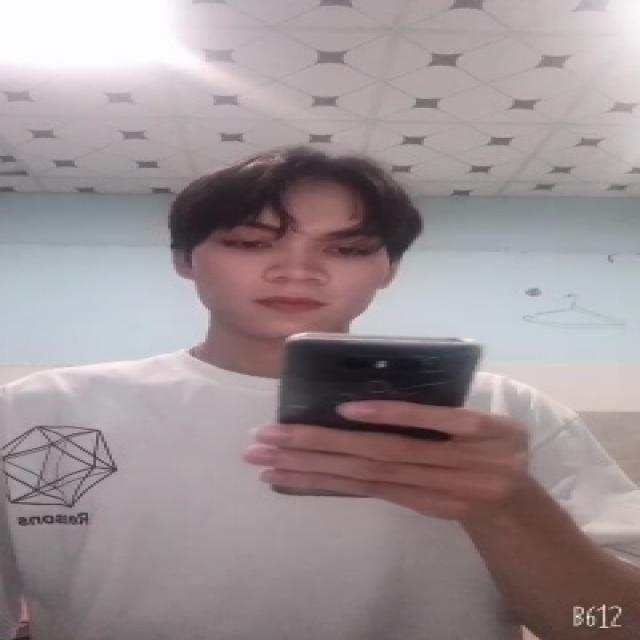Phone: (273, 327, 486, 427)
